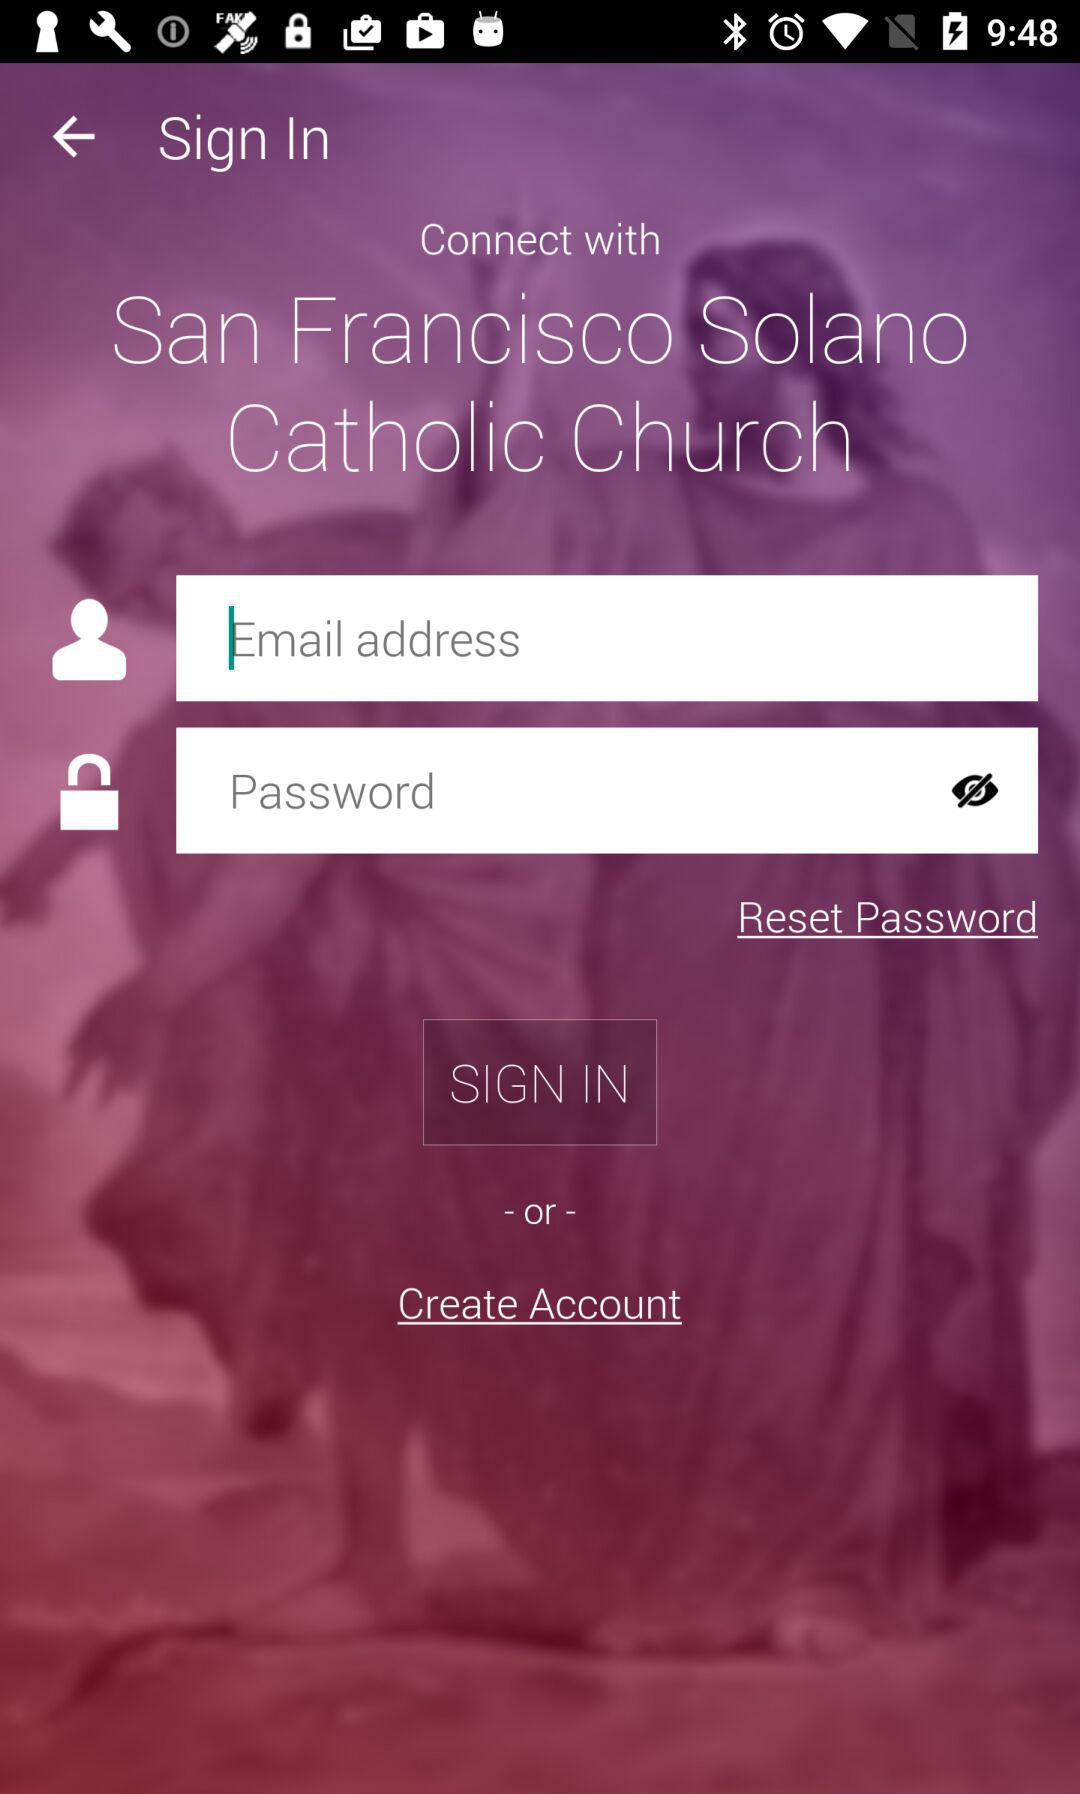BackgroundImage: (1, 64, 1080, 1794)
EditText: (177, 575, 1039, 704), (176, 728, 1039, 855)
Icon: (53, 598, 128, 682), (60, 753, 120, 832), (53, 115, 97, 160), (951, 773, 999, 809)
Text: (114, 292, 969, 475), (735, 900, 1039, 941), (397, 1287, 683, 1326), (233, 619, 520, 657), (160, 114, 329, 174), (421, 222, 661, 258), (232, 771, 433, 811), (524, 1203, 557, 1226)
TextButton: (423, 1019, 659, 1147)
UpperTaskBar: (1, 1, 1080, 64)
